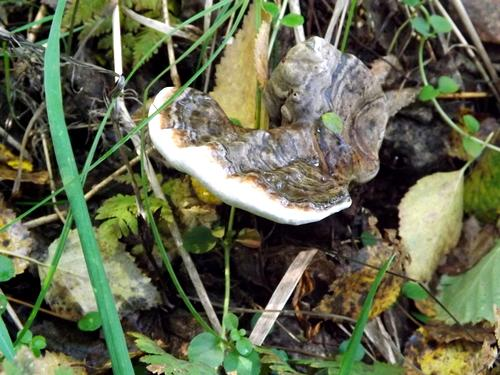Ganoderma - Fruit Body: (152, 35, 388, 226)
